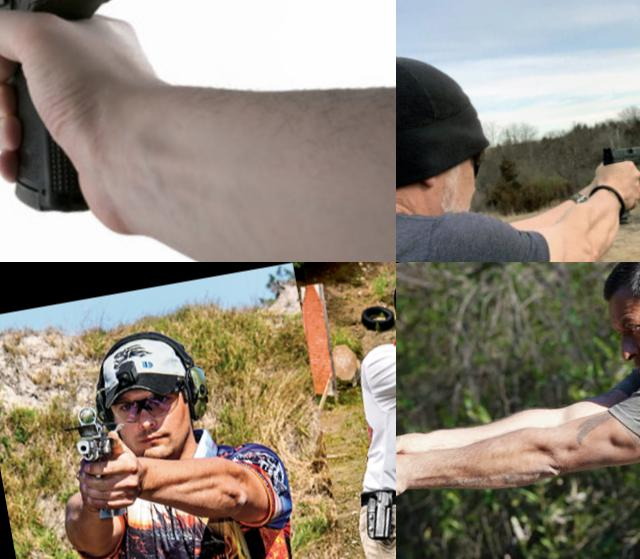handgun: (0, 0, 158, 235), (68, 398, 133, 523), (396, 424, 456, 501), (597, 135, 640, 230)
